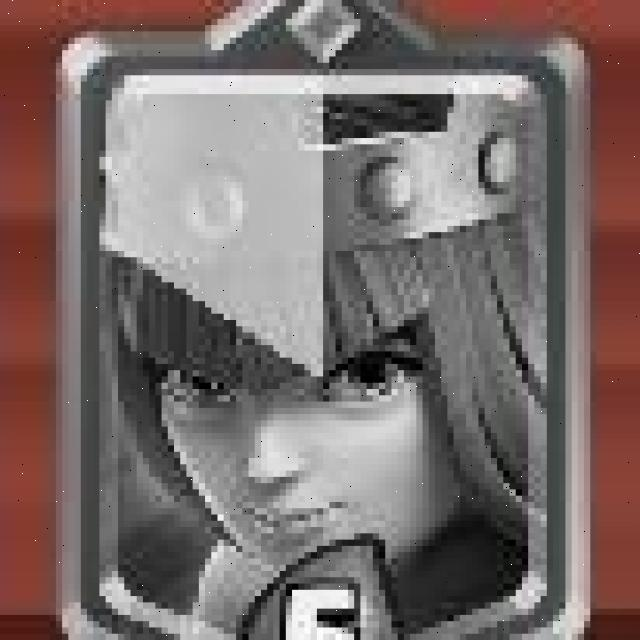Archer_Queen: (37, 0, 593, 634)
